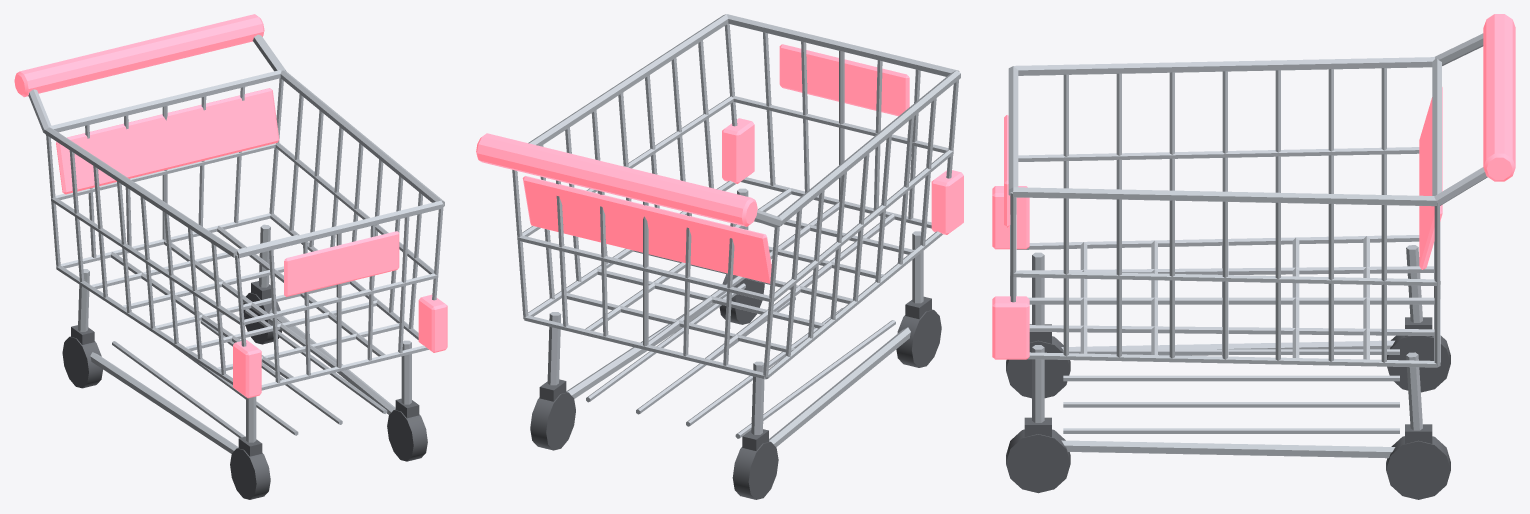
File: cart.glb
3 renders of one model, left to right at view 1: azimuth 30°, elevation 25°; view 2: azimuth 150°, elevation 25°; view 3: azimuth 270°, elevation 25°, orthographic. The views are drawn at different scales.
Parts seen in each view (by area): view 1: Cart_Wire, Cart_Red, Cart_Wheels; view 2: Cart_Wire, Cart_Red, Cart_Wheels; view 3: Cart_Wire, Cart_Red, Cart_Wheels.
Part boxes in pixels (left/top/right/bottom): Cart_Wire: left=28, top=34, right=444, bottom=453; Cart_Red: left=14, top=14, right=447, bottom=398; Cart_Wheels: left=62, top=281, right=427, bottom=499; Cart_Wire: left=512, top=14, right=960, bottom=447; Cart_Red: left=476, top=44, right=963, bottom=283; Cart_Wheels: left=530, top=274, right=941, bottom=499; Cart_Wire: left=1008, top=33, right=1487, bottom=458; Cart_Red: left=992, top=14, right=1515, bottom=359; Cart_Wheels: left=1006, top=317, right=1450, bottom=499.
Size of the model in its own units: 2.73 by 3.17 by 4.2.
